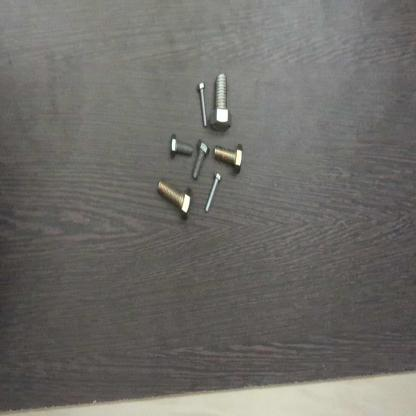Bolts: (158, 180, 194, 228), (211, 69, 233, 136), (212, 142, 247, 172), (192, 138, 210, 184), (195, 76, 210, 130), (168, 131, 193, 159)
